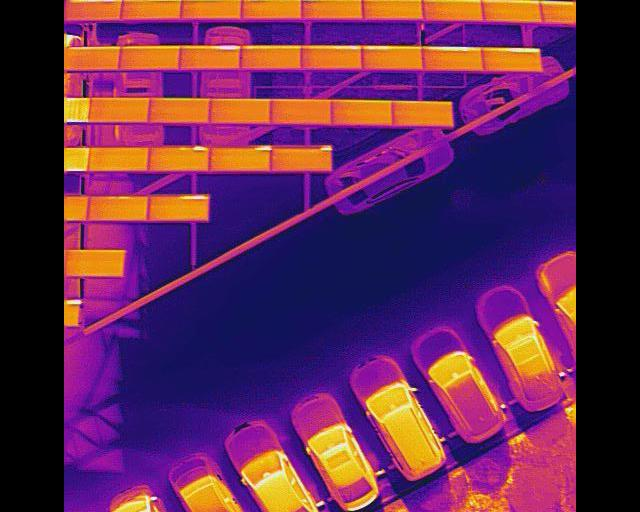No-Anomaly: (64, 247, 123, 276), (332, 98, 393, 126), (270, 97, 331, 124), (391, 99, 452, 126), (361, 44, 424, 70), (88, 194, 148, 221), (301, 43, 361, 69), (209, 98, 272, 122), (149, 97, 210, 121), (241, 44, 301, 68), (89, 146, 149, 169), (91, 97, 148, 121), (120, 47, 179, 69), (64, 46, 120, 69), (481, 0, 541, 20), (422, 0, 485, 19), (361, 0, 424, 18)
Unclassified: (270, 144, 331, 172), (149, 194, 209, 221), (149, 144, 209, 171), (209, 145, 270, 171), (421, 45, 482, 71), (480, 46, 541, 71), (181, 45, 241, 68), (181, 0, 241, 19), (301, 0, 363, 18), (65, 0, 122, 19), (241, 0, 301, 18), (122, 0, 182, 18)
